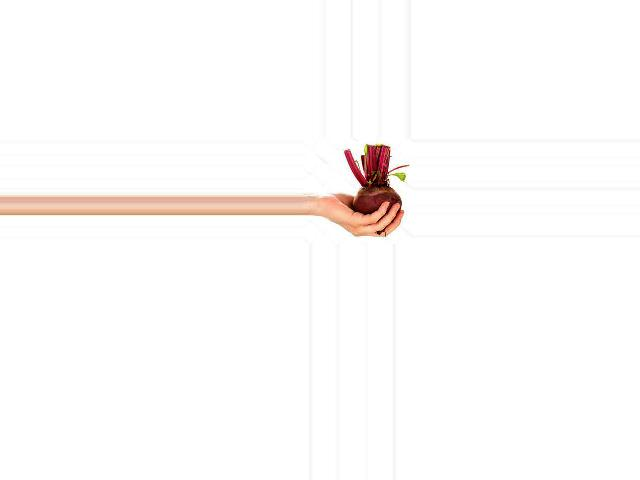beet: (344, 144, 408, 235)
